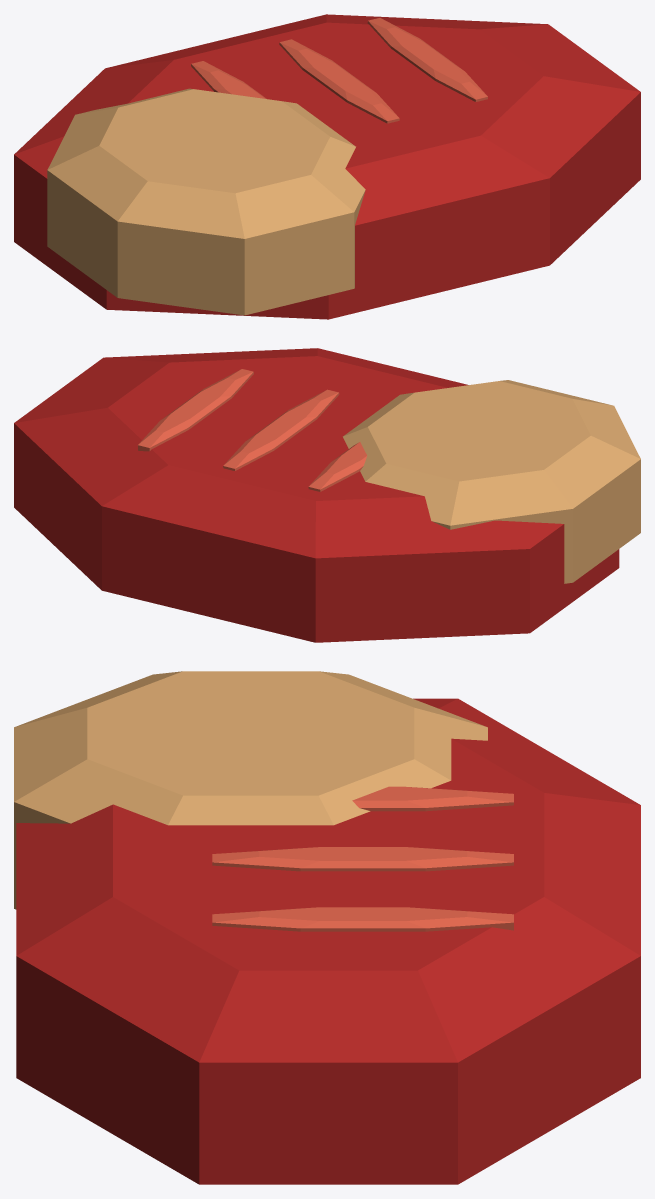
File: beef-raw.obj
The picture shows the model from 3 angles, top to bottom: view 1: azimuth 30°, elevation 25°; view 2: azimuth 150°, elevation 25°; view 3: azimuth 270°, elevation 25°; orthographic projection. The views are drawn at different scales.
Visible parts, largest first — view 1: beef-raw; view 2: beef-raw; view 3: beef-raw.
Part boxes in pixels (x1,y1,x2,y2): beef-raw: (14, 14, 640, 319); beef-raw: (14, 348, 640, 642); beef-raw: (14, 671, 640, 1184).
Size of the model in its own units: 0.4033 by 0.104 by 0.2904.
